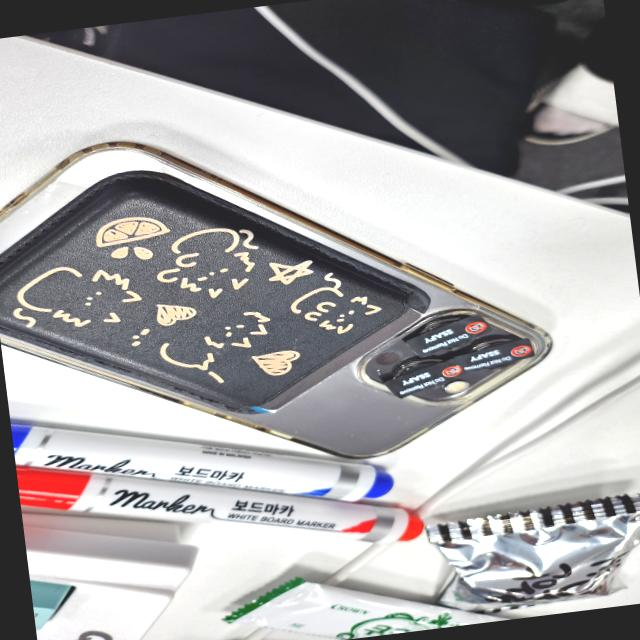phone: (0, 86, 563, 500)
sticker: (400, 310, 494, 358), (381, 356, 472, 400), (454, 334, 537, 372)
